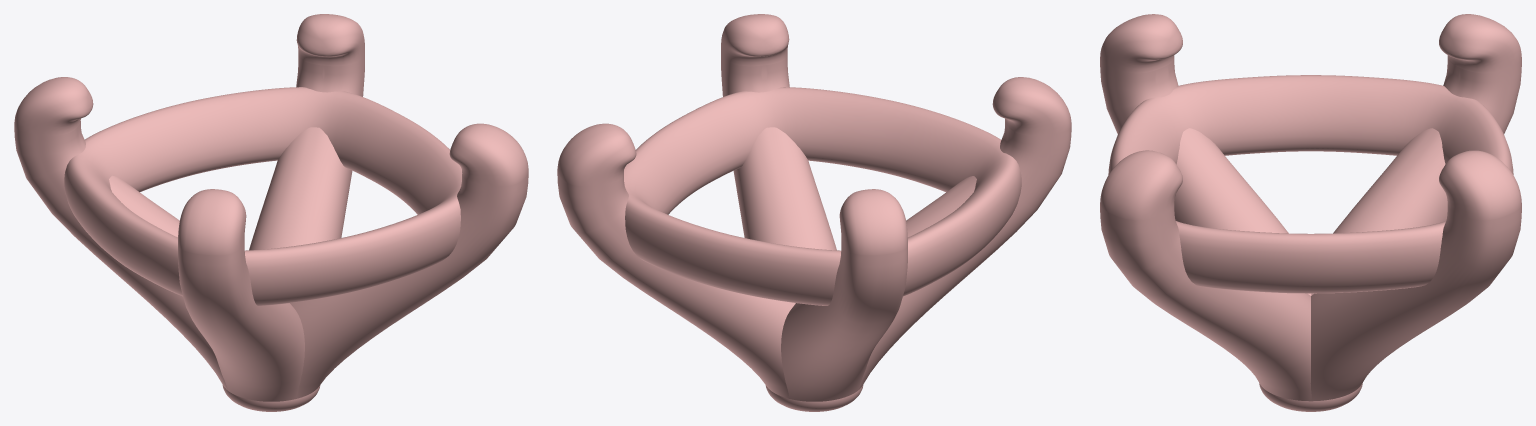
The model's file is CUSHION.glb.
3 renders of one model, left to right at view 1: azimuth 30°, elevation 25°; view 2: azimuth 150°, elevation 25°; view 3: azimuth 270°, elevation 25°, orthographic. The views are drawn at different scales.
Parts seen in each view (by area): view 1: cushion; view 2: cushion; view 3: cushion.
Part boxes in pixels (left/top/right/bottom): cushion: left=14, top=14, right=528, bottom=411; cushion: left=557, top=14, right=1071, bottom=411; cushion: left=1100, top=14, right=1521, bottom=411.
Size of the model in its own units: 5.25 by 4.3 by 5.24.
